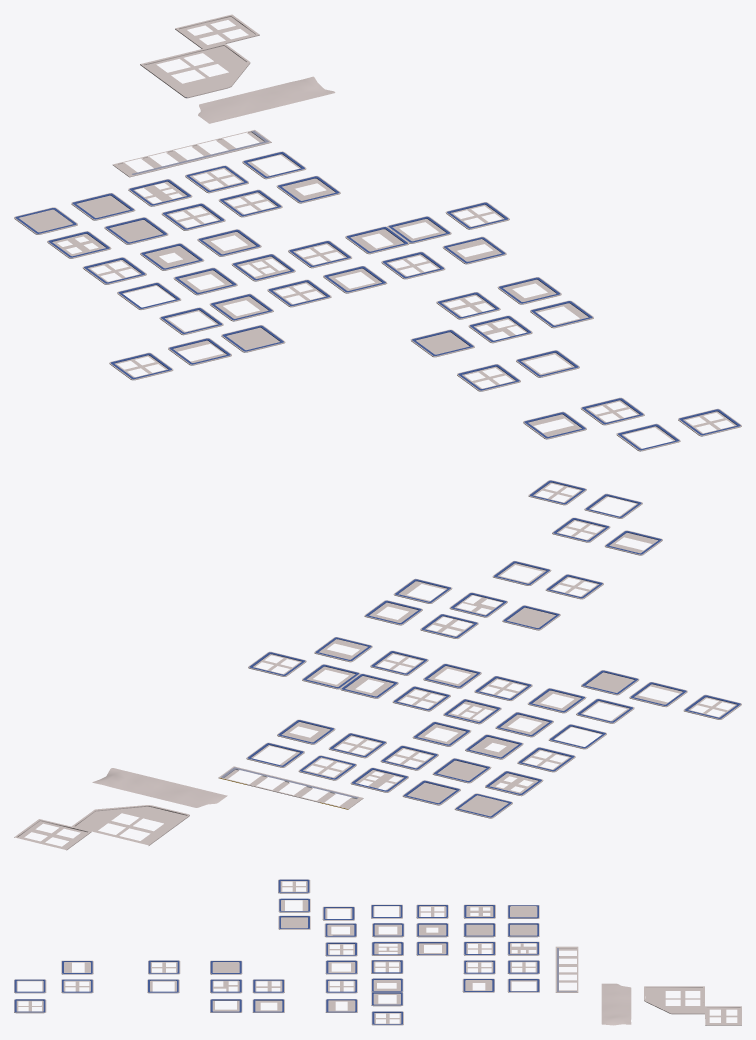
Rendered from bg_floor_side_walk_to_be_combined.fbx.
The picture shows the model from 3 angles, top to bottom: view 1: azimuth 30°, elevation 25°; view 2: azimuth 150°, elevation 25°; view 3: azimuth 270°, elevation 25°; orthographic projection. The views are drawn at different scales.
Visible parts, largest first — view 1: side_walk_grass_building_m; view 2: side_walk_grass_building_m; view 3: side_walk_grass_building_m.
Boxes of the visible parts, x1=… form: side_walk_grass_building_m: x1=14, y1=14, x2=741, y2=451; side_walk_grass_building_m: x1=14, y1=480, x2=741, y2=850; side_walk_grass_building_m: x1=14, y1=879, x2=741, y2=1025.
Bounding box in the file's own units: 15381 × 136 × 32532.
